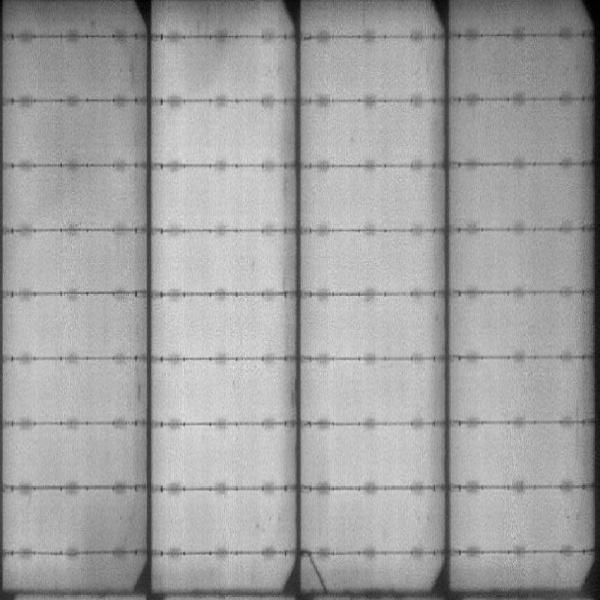scratch: (304, 558, 327, 590)
